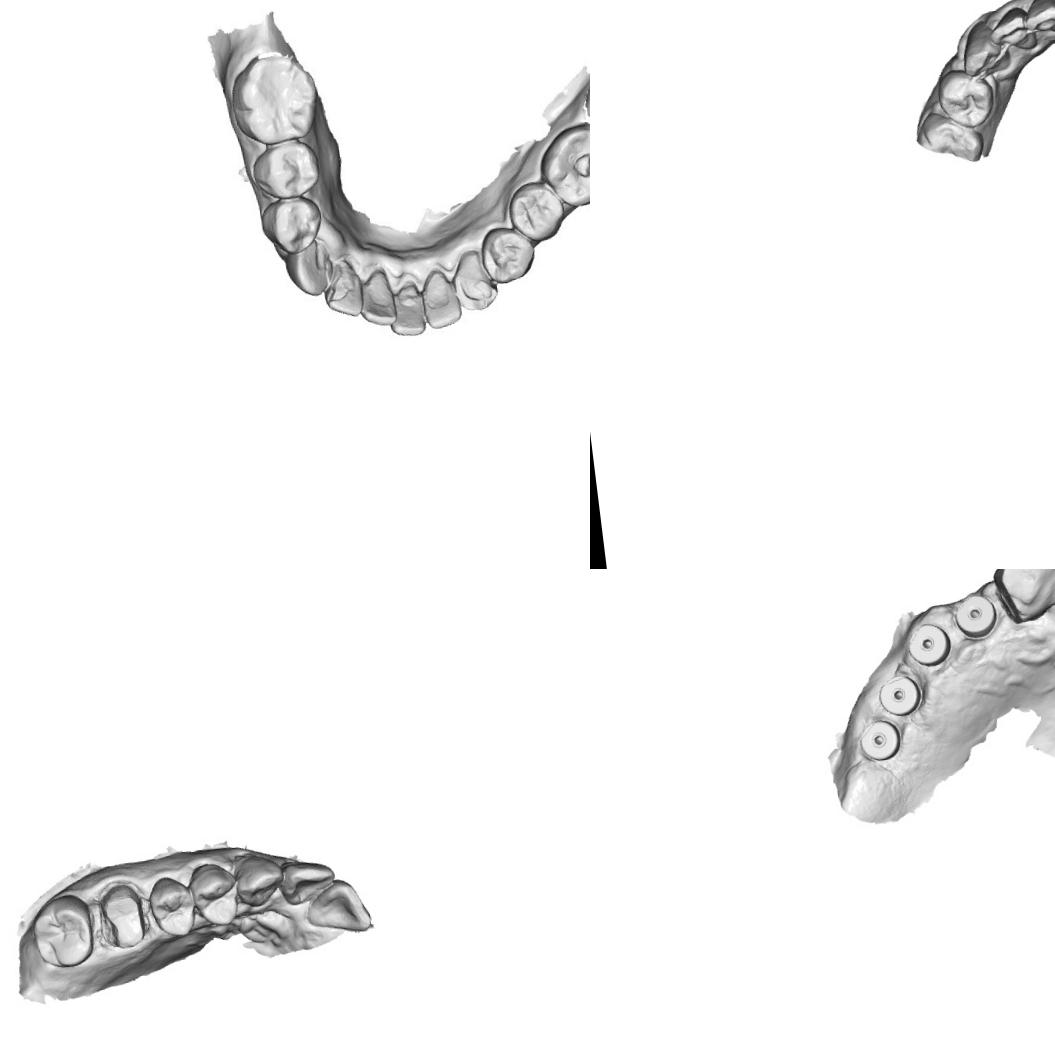canine: (992, 569, 1055, 628), (958, 16, 1013, 78), (282, 240, 336, 302), (232, 850, 288, 909), (450, 249, 498, 311)
crown: (95, 876, 151, 952)
implant: (856, 712, 906, 764), (905, 619, 952, 664), (953, 592, 996, 634), (878, 674, 918, 716)
incisor: (301, 876, 374, 938), (278, 856, 339, 909), (422, 266, 464, 329), (321, 260, 363, 320), (990, 6, 1038, 56), (360, 268, 399, 324), (388, 286, 429, 337), (1021, 0, 1055, 37)
molar: (226, 45, 321, 149), (28, 890, 98, 972), (541, 118, 590, 210)
premolar: (929, 66, 1000, 133), (186, 858, 242, 930), (258, 139, 320, 198), (146, 872, 198, 940), (262, 196, 320, 252), (507, 184, 562, 238), (483, 226, 534, 278)
